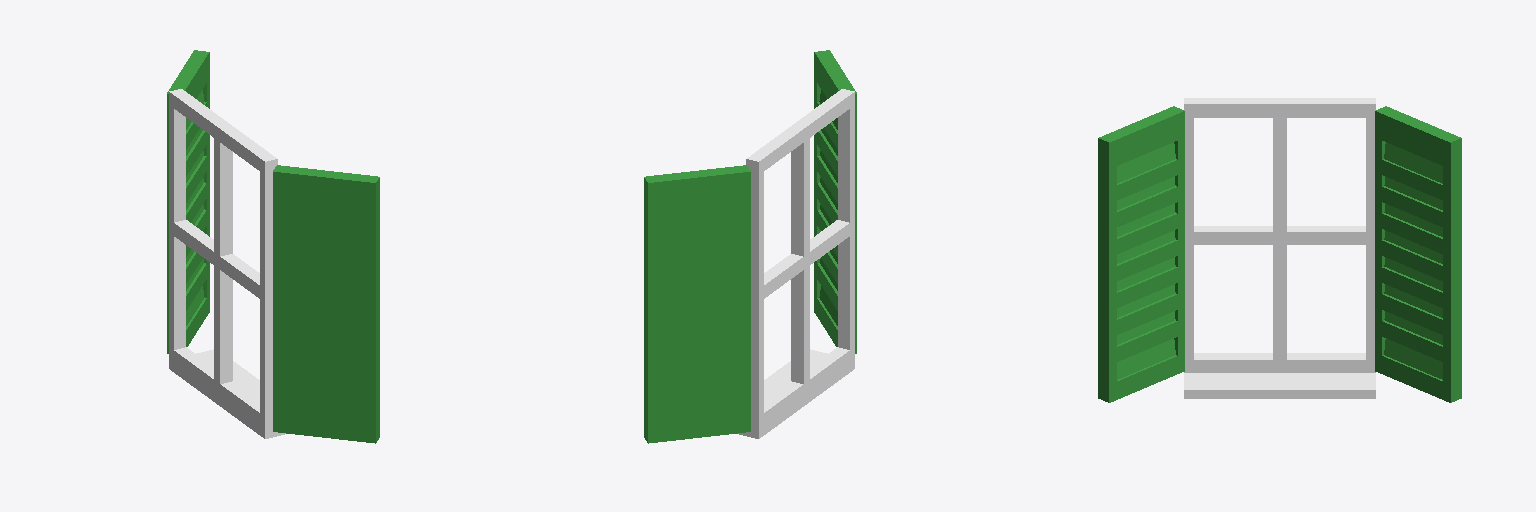
The model's file is Window_01.obj.
3 views of the same model, side by side, from view 1: azimuth 30°, elevation 25°; view 2: azimuth 150°, elevation 25°; view 3: azimuth 270°, elevation 25° (orthographic).
Visible parts, largest first — view 1: window_Cube.027; view 2: window_Cube.027; view 3: window_Cube.027.
Boxes of the visible parts, box(x1,y1,x2,y2) form: window_Cube.027: box(167, 50, 379, 443); window_Cube.027: box(644, 50, 856, 443); window_Cube.027: box(1098, 98, 1461, 402).
Size of the model in its own units: 2.91 by 9.92 by 11.78.